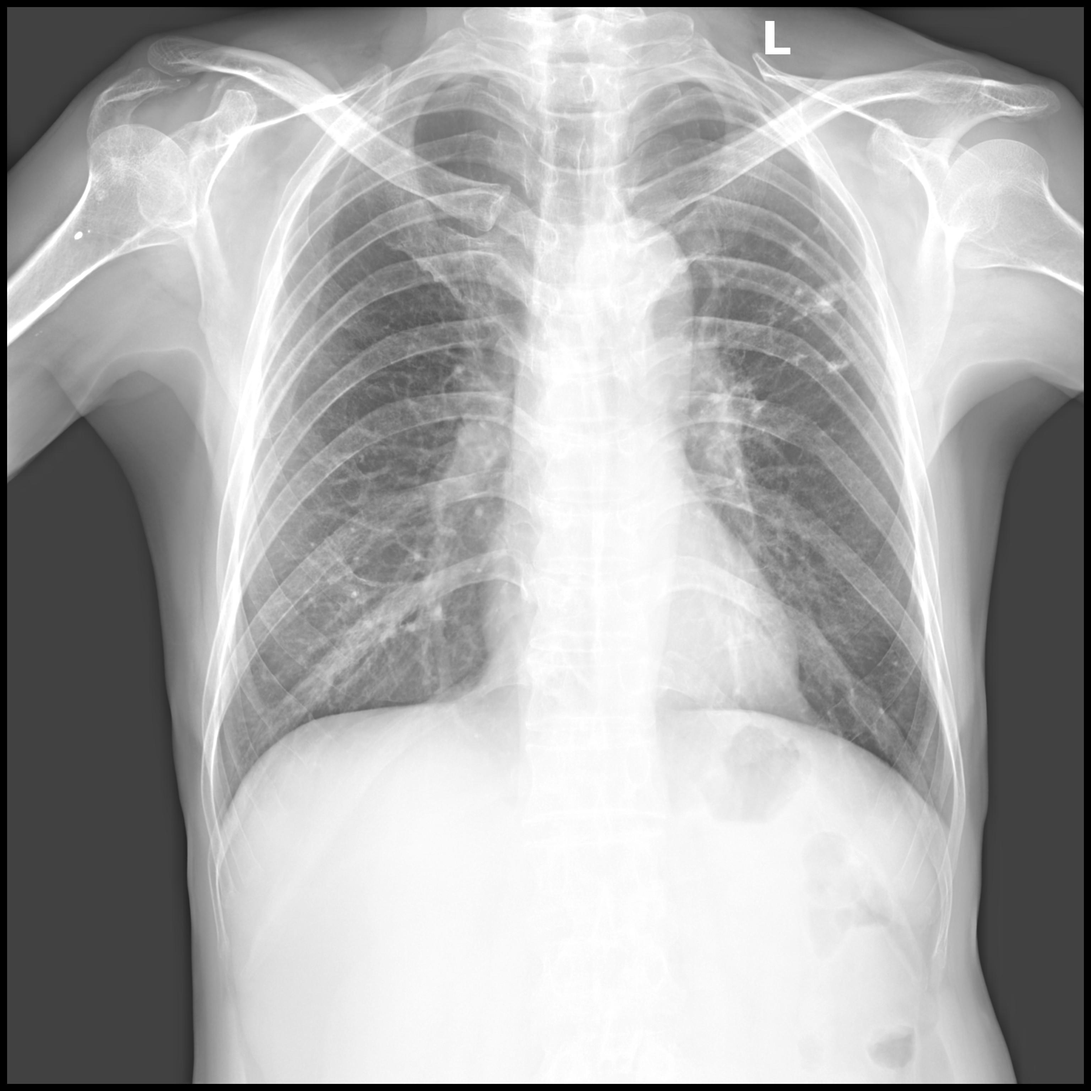Aortic enlargement: (577, 212, 697, 351)
Pulmonary fibrosis: (767, 237, 876, 380)
